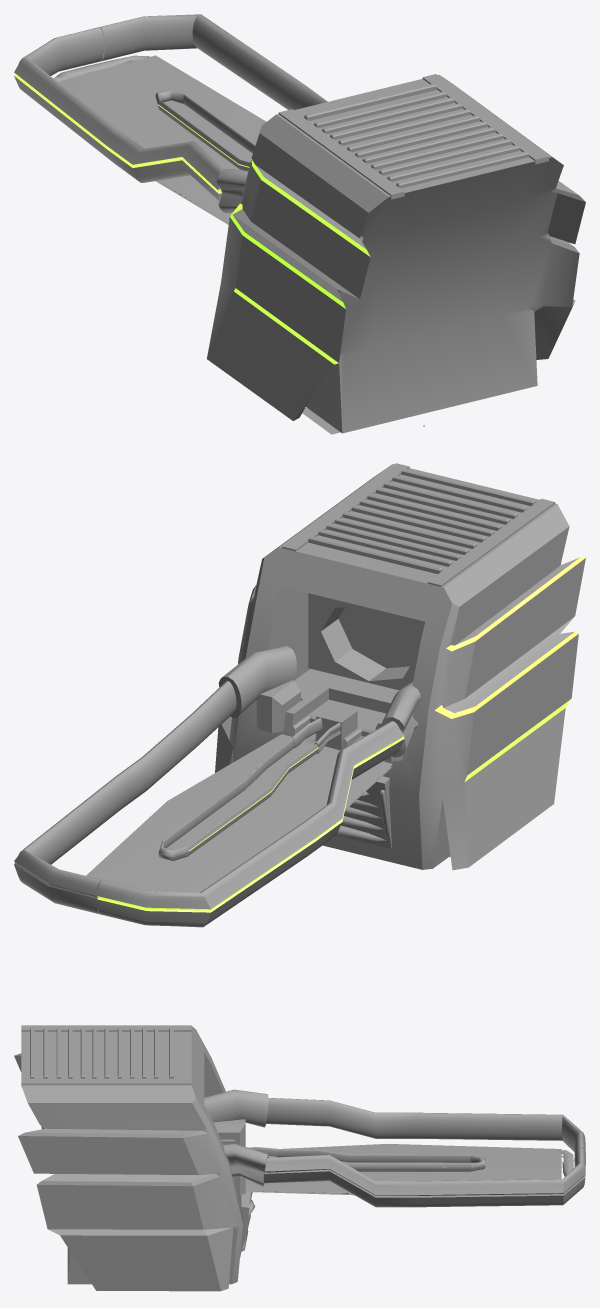
Rendered from Bowling_Machine.fbx.
The picture shows the model from 3 angles, top to bottom: view 1: azimuth 30°, elevation 25°; view 2: azimuth 150°, elevation 25°; view 3: azimuth 270°, elevation 25°; orthographic projection. The views are drawn at different scales.
Visible parts, largest first — view 1: pCube47, pCylinder9, polySurface3; view 2: pCube47, pCylinder9, polySurface3, pCube23; view 3: pCube47, pCylinder9, polySurface3.
Boxes of the visible parts, bbox=[...] form: pCube47: bbox=[207, 74, 585, 433]; pCylinder9: bbox=[14, 14, 327, 224]; polySurface3: bbox=[278, 74, 548, 199]; pCube47: bbox=[215, 464, 585, 870]; pCylinder9: bbox=[14, 646, 421, 927]; polySurface3: bbox=[282, 463, 555, 586]; pCube23: bbox=[336, 776, 391, 848]; pCube47: bbox=[14, 1026, 245, 1291]; pCylinder9: bbox=[204, 1089, 585, 1207]; polySurface3: bbox=[21, 1025, 191, 1086].
Bounding box in the file's own units: 398 × 424 × 1008.
